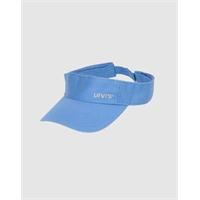hat: (40, 62, 154, 132)
